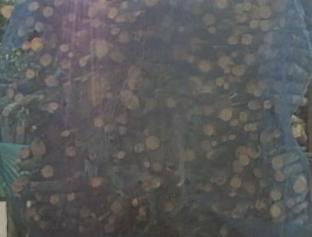medium: (124, 92, 143, 108), (128, 68, 145, 85), (93, 40, 111, 56), (31, 140, 48, 156), (144, 135, 161, 149), (253, 200, 269, 214), (30, 38, 43, 53), (217, 56, 232, 68), (111, 50, 126, 62), (259, 19, 272, 32), (270, 205, 283, 218), (214, 171, 227, 184), (204, 105, 218, 117), (45, 75, 59, 87), (196, 61, 211, 72), (41, 167, 54, 179), (235, 3, 251, 12), (241, 34, 253, 46), (271, 156, 283, 168), (229, 176, 241, 188), (249, 146, 260, 159), (269, 189, 282, 200), (234, 209, 247, 220), (105, 7, 118, 18), (40, 52, 51, 65), (235, 13, 250, 22), (260, 6, 271, 18), (245, 54, 256, 66), (292, 180, 303, 192), (246, 122, 258, 133), (233, 66, 246, 76), (202, 15, 215, 25), (219, 223, 229, 236), (290, 126, 301, 137), (275, 2, 287, 12), (191, 6, 206, 14), (221, 110, 233, 120), (231, 162, 243, 172), (42, 7, 54, 17), (113, 199, 123, 211), (217, 0, 230, 9), (287, 63, 296, 76), (204, 124, 214, 135), (139, 207, 149, 218), (237, 146, 249, 155), (166, 97, 178, 106), (120, 33, 132, 42), (149, 180, 161, 189), (68, 146, 77, 158), (249, 20, 259, 30), (87, 8, 98, 17), (91, 177, 102, 186), (116, 151, 127, 160), (226, 37, 238, 45), (231, 27, 243, 35), (58, 44, 70, 52), (27, 69, 37, 78), (239, 155, 248, 164), (78, 58, 87, 67), (50, 195, 59, 204), (263, 100, 273, 108), (146, 1, 159, 7), (116, 16, 127, 23), (248, 100, 257, 108), (14, 94, 23, 102), (215, 78, 223, 86), (239, 113, 247, 121), (272, 130, 280, 137), (257, 180, 266, 186), (223, 83, 230, 89)
small: (94, 118, 106, 127), (134, 143, 143, 153), (131, 199, 139, 207), (117, 127, 126, 134), (66, 193, 75, 200), (207, 27, 215, 33), (230, 51, 236, 58), (228, 135, 235, 141), (221, 137, 227, 142), (34, 215, 39, 221), (211, 142, 217, 145)
